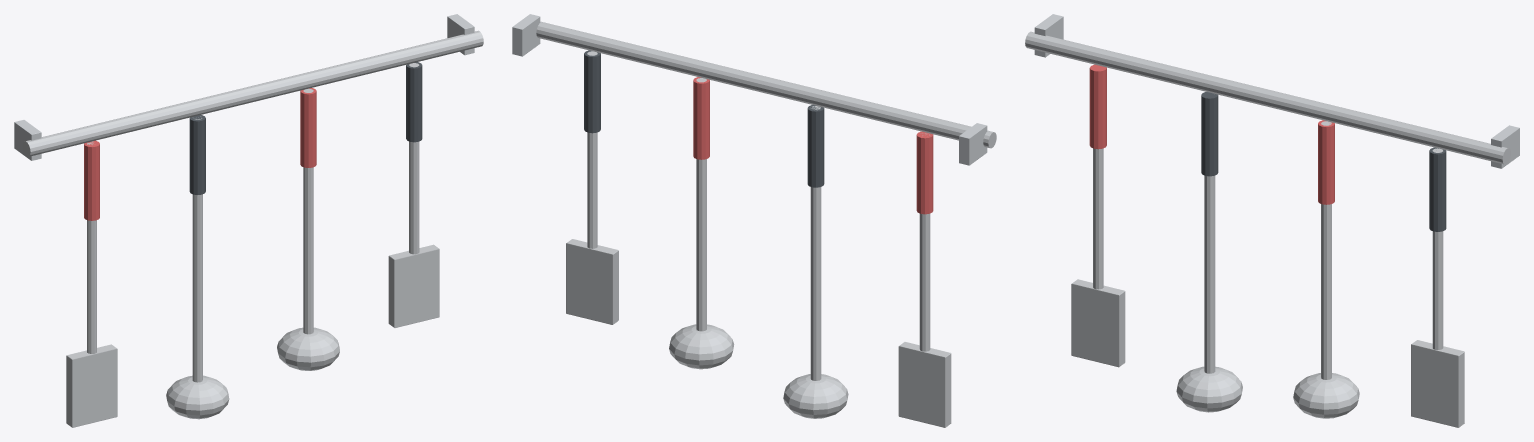
The model's file is env_wallrack.glb.
3 views of the same model, side by side, from view 1: azimuth 30°, elevation 25°; view 2: azimuth 150°, elevation 25°; view 3: azimuth 330°, elevation 25° (orthographic). The views are drawn at different scales.
Visible parts, largest first — view 1: EnvWallRack_00, EnvWallRack_05, EnvWallRack_14, EnvWallRack_08, EnvWallRack_11, EnvWallRack_06, EnvWallRack_09, EnvWallRack_03, EnvWallRack_07, EnvWallRack_13, EnvWallRack_10, EnvWallRack_12 (+3 smaller); view 2: EnvWallRack_00, EnvWallRack_05, EnvWallRack_14, EnvWallRack_06, EnvWallRack_11, EnvWallRack_08, EnvWallRack_09, EnvWallRack_03, EnvWallRack_04, EnvWallRack_07, EnvWallRack_10, EnvWallRack_13 (+3 smaller); view 3: EnvWallRack_00, EnvWallRack_05, EnvWallRack_14, EnvWallRack_06, EnvWallRack_08, EnvWallRack_11, EnvWallRack_09, EnvWallRack_03, EnvWallRack_07, EnvWallRack_04, EnvWallRack_12, EnvWallRack_13 (+3 smaller).
Part boxes in pixels (x1,y1,x2,y2): EnvWallRack_00: (22, 30, 483, 156); EnvWallRack_05: (66, 344, 117, 427); EnvWallRack_14: (388, 244, 439, 327); EnvWallRack_08: (166, 375, 229, 419); EnvWallRack_11: (277, 327, 339, 370); EnvWallRack_06: (192, 116, 202, 382); EnvWallRack_09: (303, 88, 313, 334); EnvWallRack_03: (87, 141, 96, 353); EnvWallRack_07: (189, 115, 205, 194); EnvWallRack_13: (406, 62, 422, 142); EnvWallRack_10: (300, 88, 316, 167); EnvWallRack_12: (409, 63, 419, 254); EnvWallRack_00: (536, 21, 996, 148); EnvWallRack_05: (898, 342, 951, 427); EnvWallRack_14: (566, 239, 618, 324); EnvWallRack_06: (810, 106, 821, 380); EnvWallRack_11: (669, 324, 734, 369); EnvWallRack_08: (783, 374, 848, 418); EnvWallRack_09: (696, 78, 706, 331); EnvWallRack_03: (919, 133, 930, 351); EnvWallRack_04: (916, 131, 933, 214); EnvWallRack_07: (807, 105, 824, 187); EnvWallRack_10: (693, 77, 709, 159); EnvWallRack_13: (584, 50, 600, 133); EnvWallRack_00: (1025, 31, 1510, 164); EnvWallRack_05: (1071, 279, 1125, 367); EnvWallRack_14: (1411, 340, 1464, 427); EnvWallRack_06: (1204, 175, 1215, 373); EnvWallRack_08: (1176, 366, 1242, 412); EnvWallRack_11: (1293, 373, 1359, 418); EnvWallRack_09: (1321, 121, 1331, 379); EnvWallRack_03: (1093, 148, 1103, 289); EnvWallRack_07: (1201, 92, 1218, 176); EnvWallRack_04: (1089, 64, 1106, 149); EnvWallRack_12: (1432, 148, 1443, 349); EnvWallRack_13: (1429, 147, 1446, 231).
Size of the model in its own units: 0.9 by 0.608 by 0.115.
